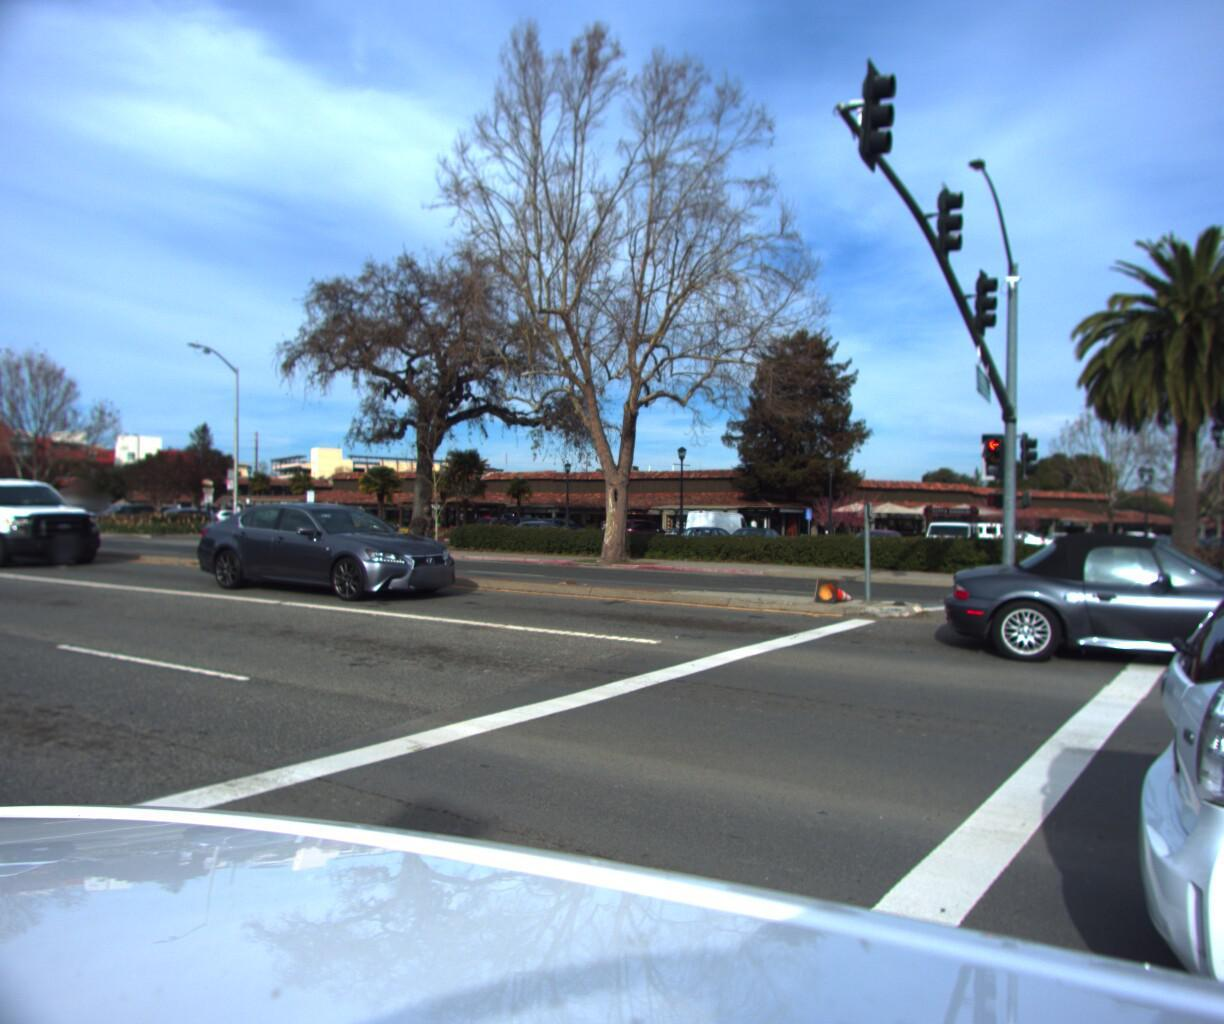car: (937, 524, 1224, 688), (184, 506, 472, 607), (0, 474, 117, 573), (913, 516, 993, 571)
